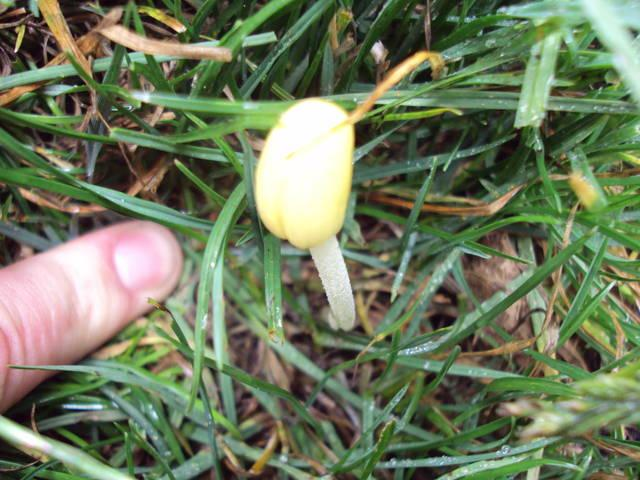Edible Mushroom: (253, 96, 358, 331)
